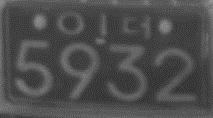0: (56, 9, 86, 36)
1: (92, 12, 117, 37)
2: (153, 46, 197, 103)
3: (106, 41, 148, 102)
5: (14, 38, 53, 99)
9: (59, 39, 101, 100)
더: (122, 14, 153, 41)
